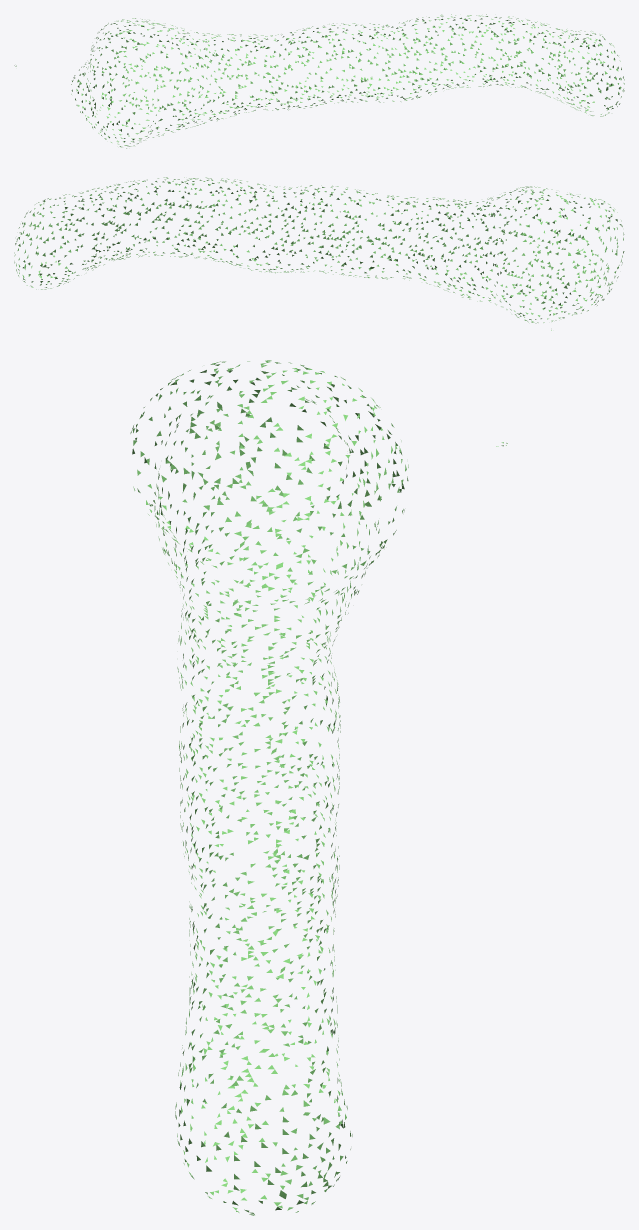
The model's file is morph_016.glb.
The picture shows the model from 3 angles, top to bottom: view 1: azimuth 30°, elevation 25°; view 2: azimuth 150°, elevation 25°; view 3: azimuth 270°, elevation 25°; orthographic projection. The views are drawn at different scales.
Size of the model in its own units: 132 by 46.36 by 40.11.
